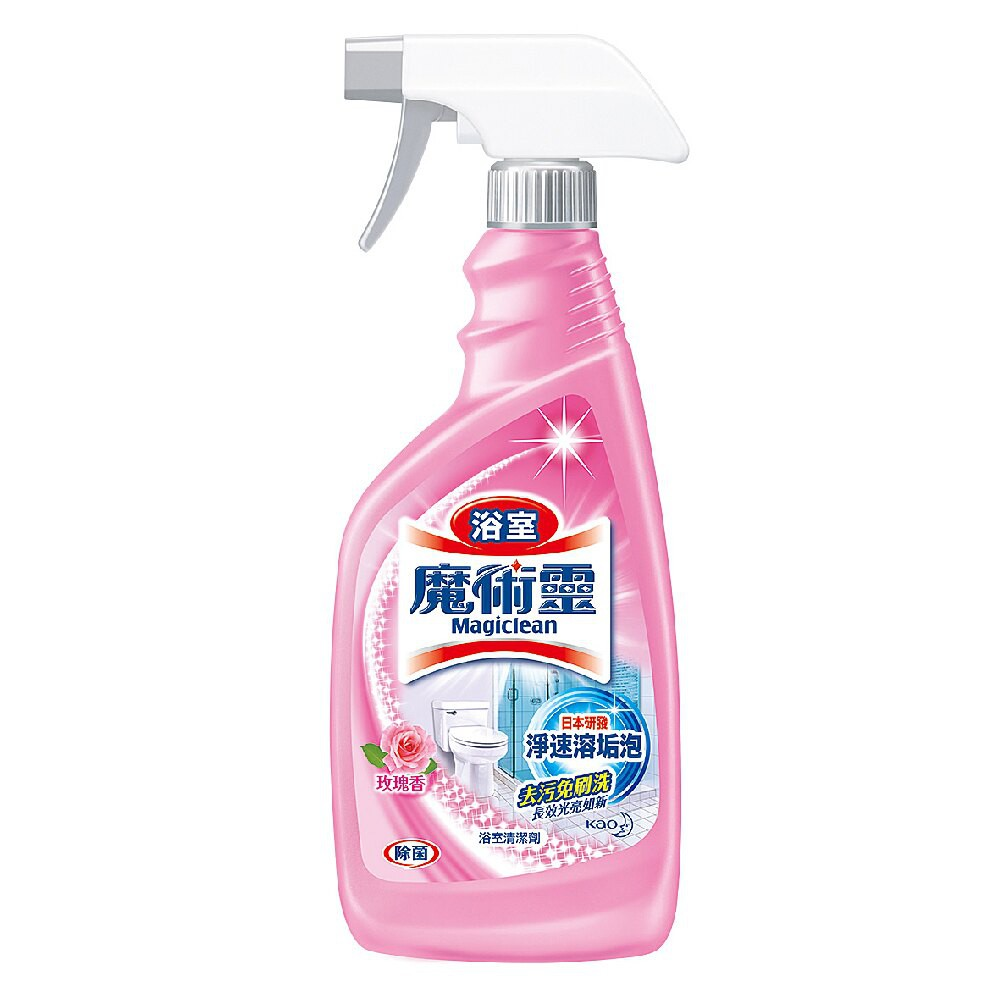cleaner: (294, 18, 698, 972)
